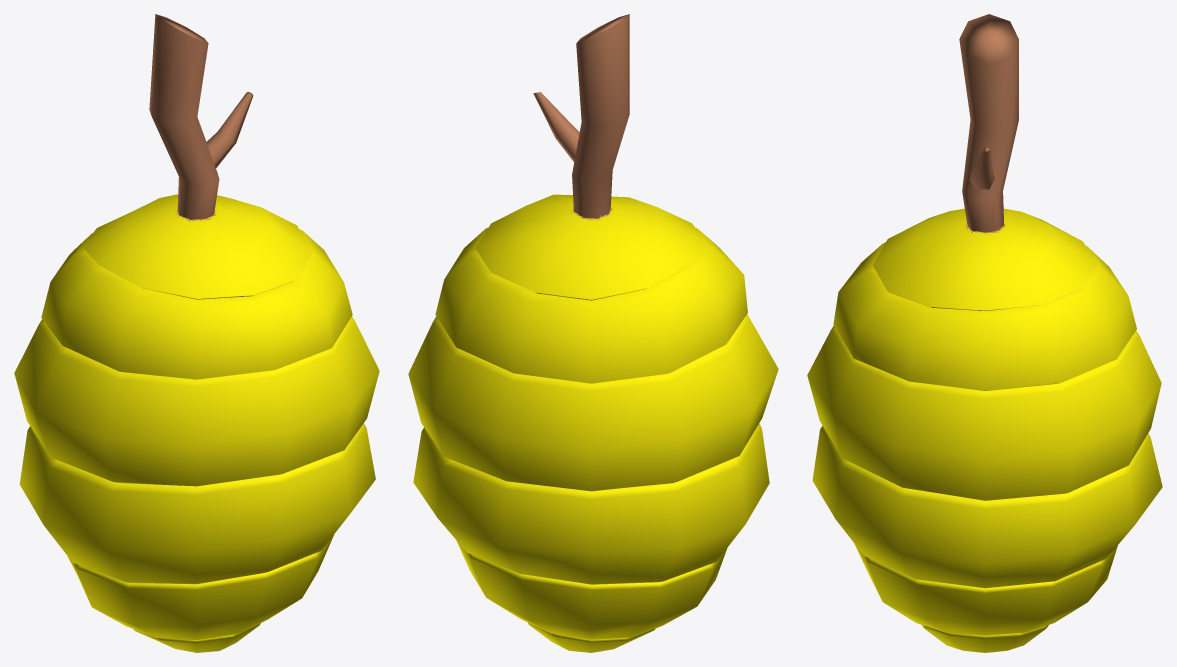
The picture shows the model from 3 angles, left to right: view 1: azimuth 30°, elevation 25°; view 2: azimuth 150°, elevation 25°; view 3: azimuth 270°, elevation 25°; orthographic projection. The views are drawn at different scales.
Parts seen in each view (by area): view 1: node_id36_7, node_id34_6; view 2: node_id36_7, node_id34_6; view 3: node_id36_7, node_id34_6.
Part boxes in pixels (bbox=[...]): node_id36_7: bbox=[14, 194, 379, 652]; node_id34_6: bbox=[149, 14, 253, 219]; node_id36_7: bbox=[408, 194, 778, 652]; node_id34_6: bbox=[533, 14, 629, 218]; node_id36_7: bbox=[807, 208, 1162, 652]; node_id34_6: bbox=[959, 14, 1018, 232].
Bounding box in the file's own units: 0.2699 × 0.512 × 0.2662.
2 materials, 2 textured.
